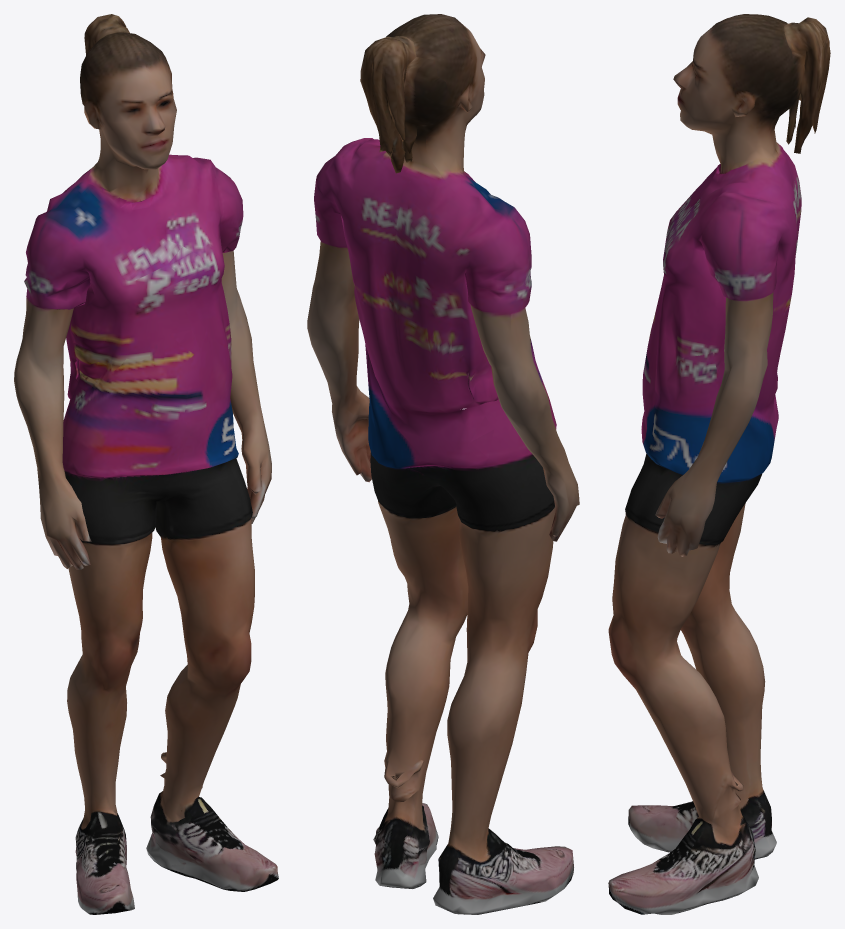
The model's file is 5_1_idle.glb.
3 renders of one model, left to right at view 1: azimuth 30°, elevation 25°; view 2: azimuth 150°, elevation 25°; view 3: azimuth 270°, elevation 25°, orthographic. The views are drawn at different scales.
Parts seen in each view (by area): view 1: Idle; view 2: Idle; view 3: Idle.
Part boxes in pixels (x1,y1,x2,y2): Idle: [14, 14, 278, 914]; Idle: [307, 14, 579, 914]; Idle: [608, 14, 830, 914].
Bounding box in the file's own units: 28 × 97.46 × 22.9.
Materials: 1 (1 with a texture image).
